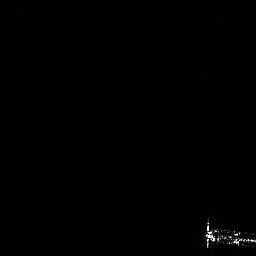ship: (202, 215, 256, 252)
